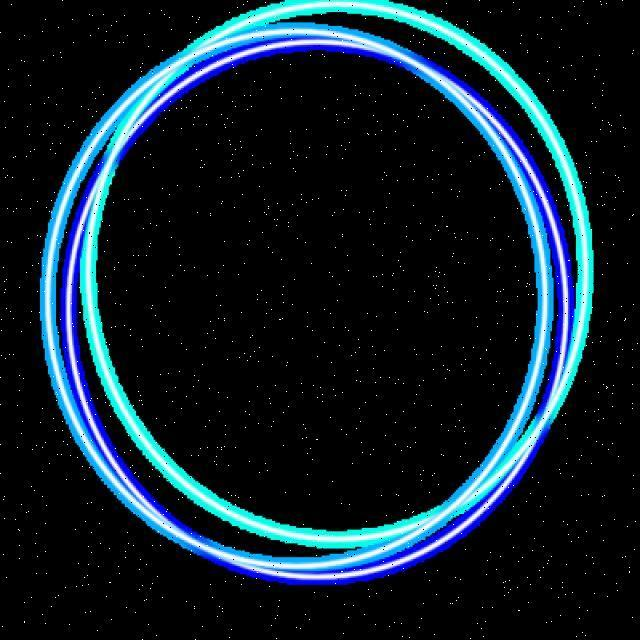Circle: (61, 33, 570, 588)
